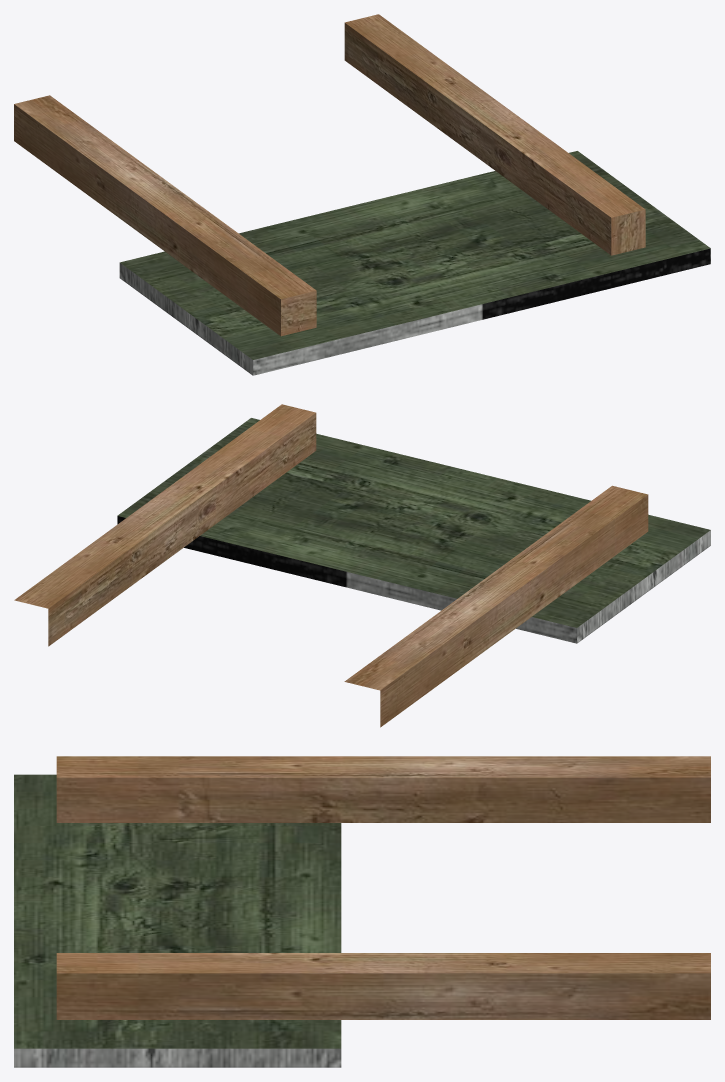
The model's file is sign_minefieldpath.glb.
3 views of the same model, one above another, from view 1: azimuth 30°, elevation 25°; view 2: azimuth 150°, elevation 25°; view 3: azimuth 270°, elevation 25° (orthographic). The views are drawn at different scales.
Bounding box in the file's own units: 23.78 × 2.66 × 25.56.
2 materials, 2 textured.
